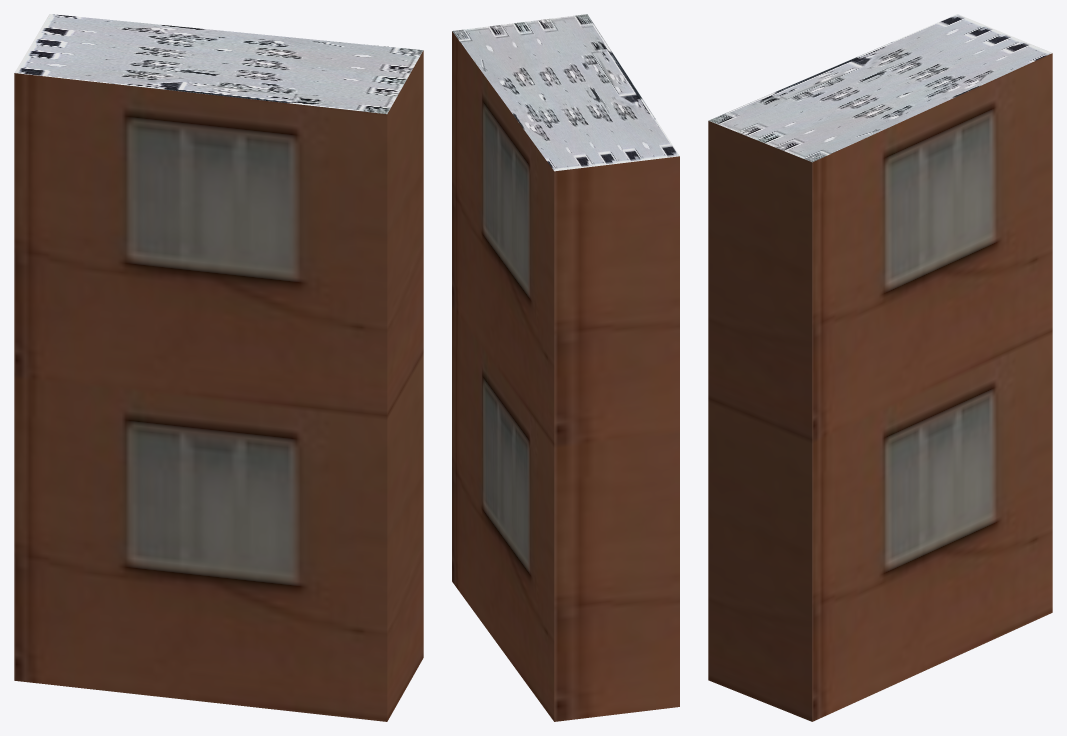
The model's file is ResTex__4245.fbx.
3 views of the same model, side by side, from view 1: azimuth 30°, elevation 25°; view 2: azimuth 150°, elevation 25°; view 3: azimuth 270°, elevation 25° (orthographic). The views are drawn at different scales.
Parts seen in each view (by area): view 1: CityEngineMaterial_20_m, CityEngineMaterial_m; view 2: CityEngineMaterial_20_m, CityEngineMaterial_m; view 3: CityEngineMaterial_20_m, CityEngineMaterial_m.
Boxes of the visible parts, left/top/right/bottom form: CityEngineMaterial_20_m: left=14, top=50, right=423, bottom=721; CityEngineMaterial_m: left=14, top=14, right=423, bottom=114; CityEngineMaterial_20_m: left=452, top=31, right=679, bottom=721; CityEngineMaterial_m: left=452, top=14, right=679, bottom=171; CityEngineMaterial_20_m: left=708, top=53, right=1052, bottom=721; CityEngineMaterial_m: left=708, top=14, right=1052, bottom=162.
Size of the model in its own units: 3.41 by 6 by 3.35.
Materials: 2 (2 with a texture image).
